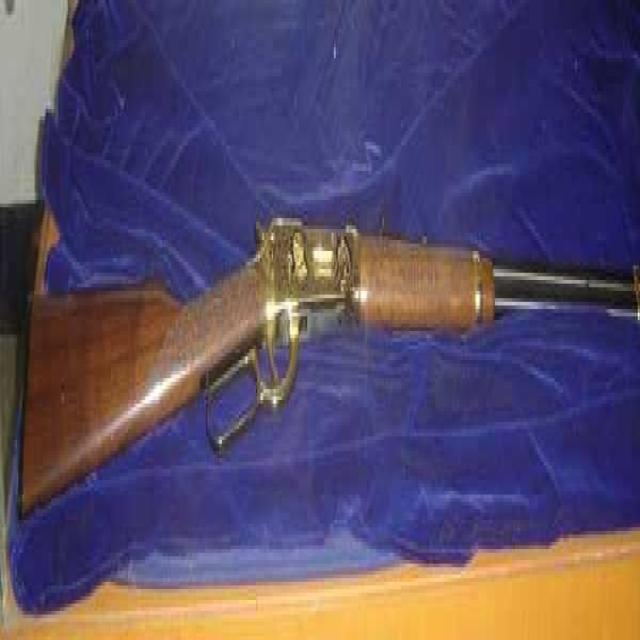Rifle: (21, 66, 640, 495)
